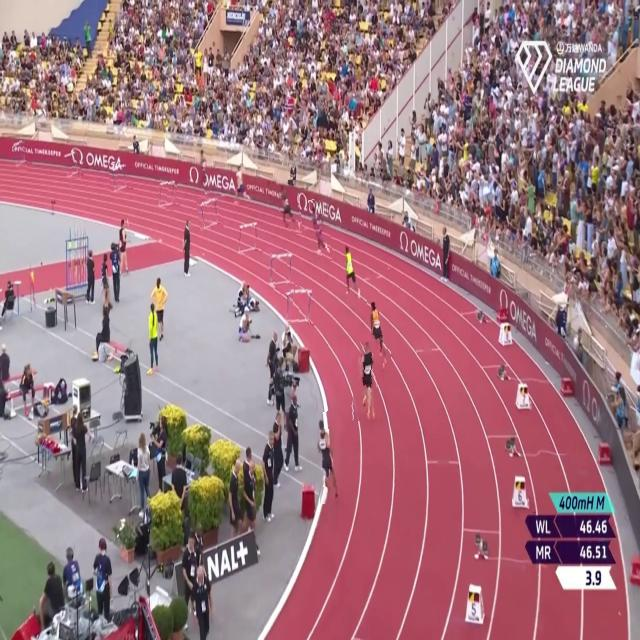athlete: (352, 338, 381, 423), (317, 411, 339, 504), (368, 291, 390, 364), (310, 200, 331, 262), (341, 239, 362, 301), (278, 181, 301, 235), (232, 159, 250, 211), (197, 149, 211, 194)
hurdle: (286, 286, 313, 328), (268, 249, 293, 294), (197, 195, 221, 230), (157, 176, 177, 211), (238, 221, 258, 255), (62, 148, 81, 180), (110, 162, 126, 195), (12, 140, 27, 172)
